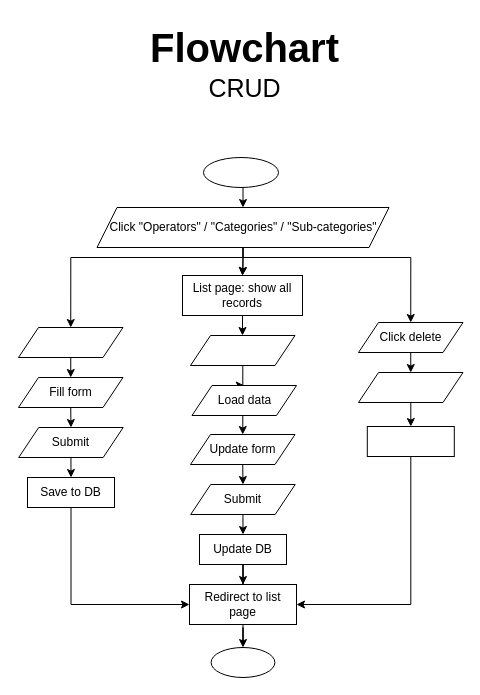
This 480x695 diagram has some shape labels left out. Here are the shapes that lost their labels. From the top down, the centre of each, then its label:
At point (240, 172): "Start".
At point (70, 342): "Click add".
At point (242, 350): "Click edit".
At point (410, 387): "Confirm".
At point (410, 441): "Delete from DB".
At point (242, 662): "End".
